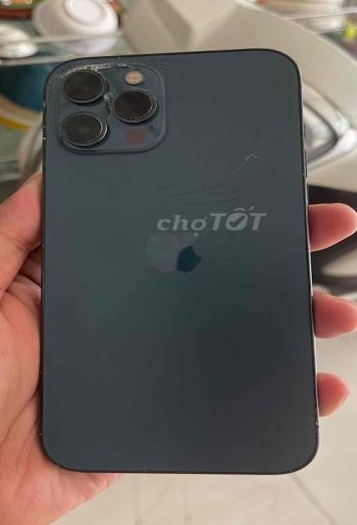physical_damage: (158, 150, 274, 219), (44, 51, 150, 88), (83, 89, 127, 133)
